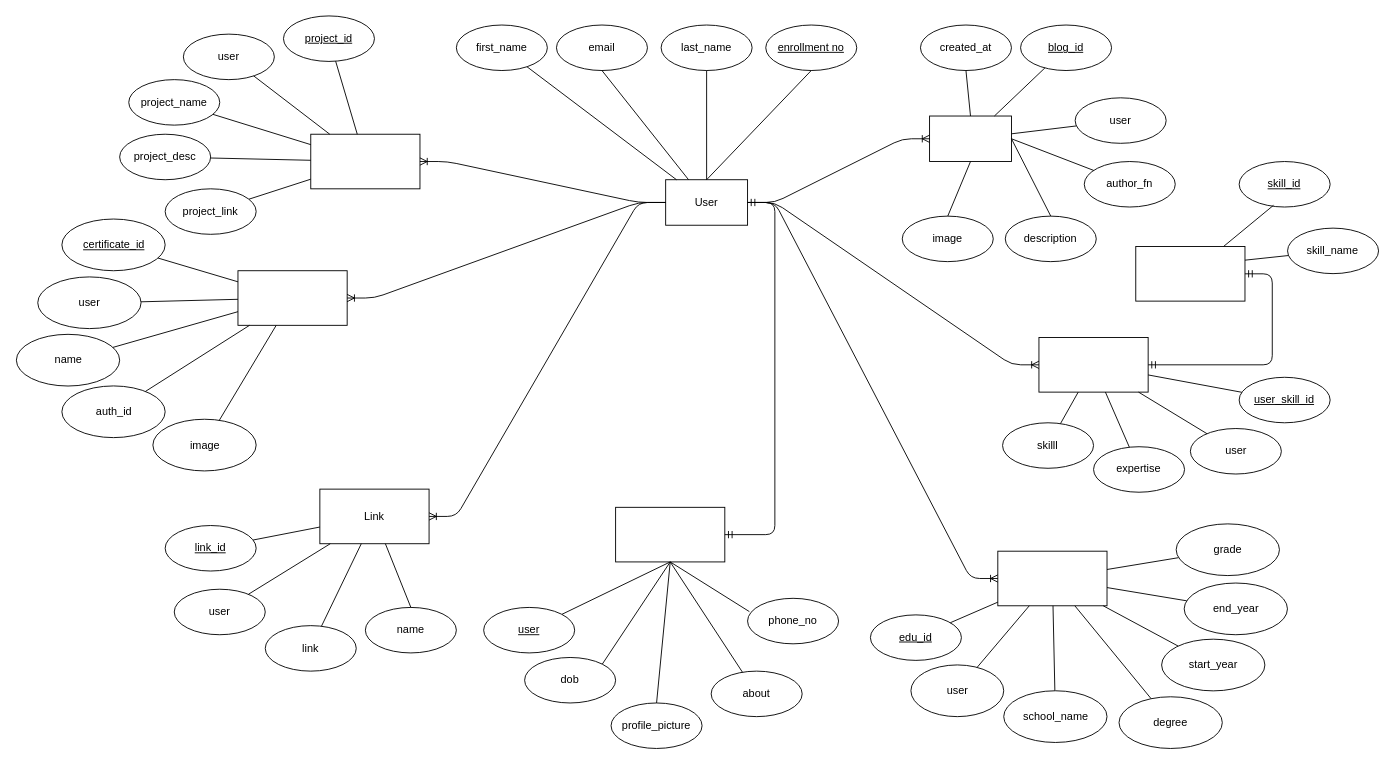
Some shapes in this 1394 by 764 pixel diagram are drawn without their labels. Each missing label, with the centre of its shape:
Blog: point (970, 138)
Certifications: point (292, 297)
Education: point (1052, 578)
Project: point (365, 161)
Skill: point (1190, 273)
UserCompleteProfile: point (670, 534)
UserSkill: point (1093, 364)
